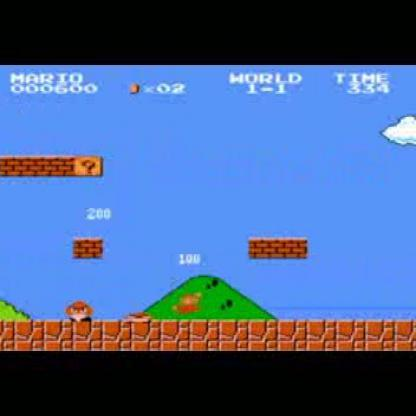Goomba: (66, 294, 94, 324)
